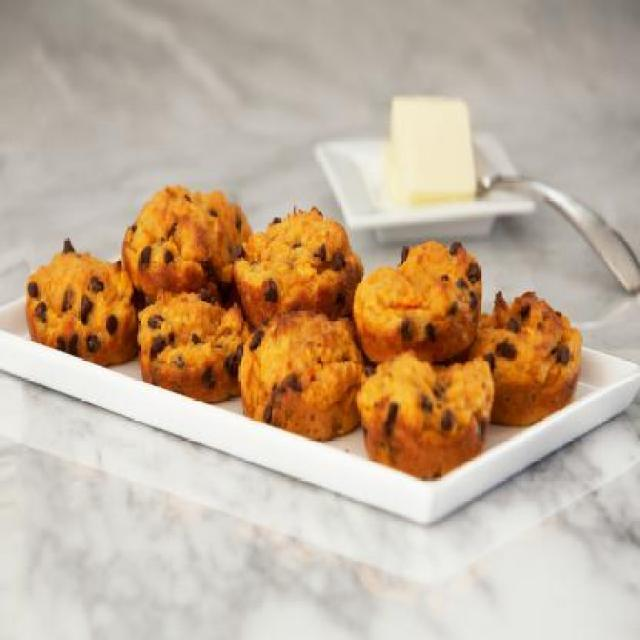Muffin: (450, 291, 588, 427), (352, 352, 494, 482), (351, 234, 484, 370), (238, 309, 371, 442), (118, 178, 251, 304), (230, 206, 362, 332), (25, 237, 148, 360), (132, 288, 251, 407)
